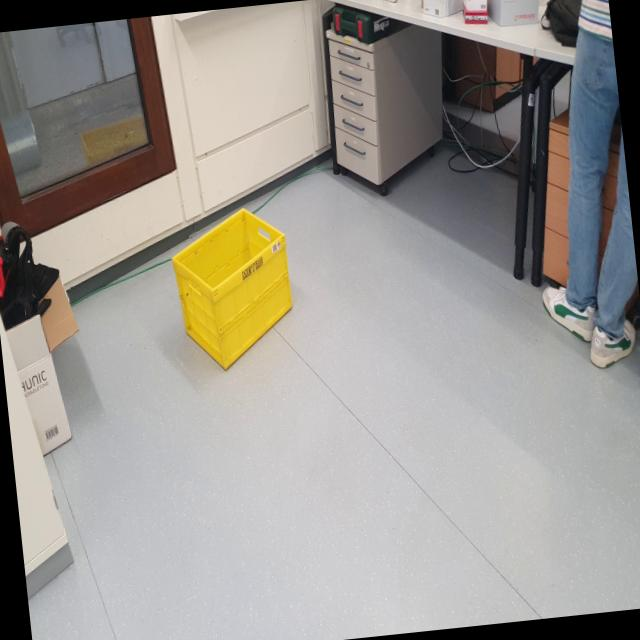box: (156, 192, 306, 382)
